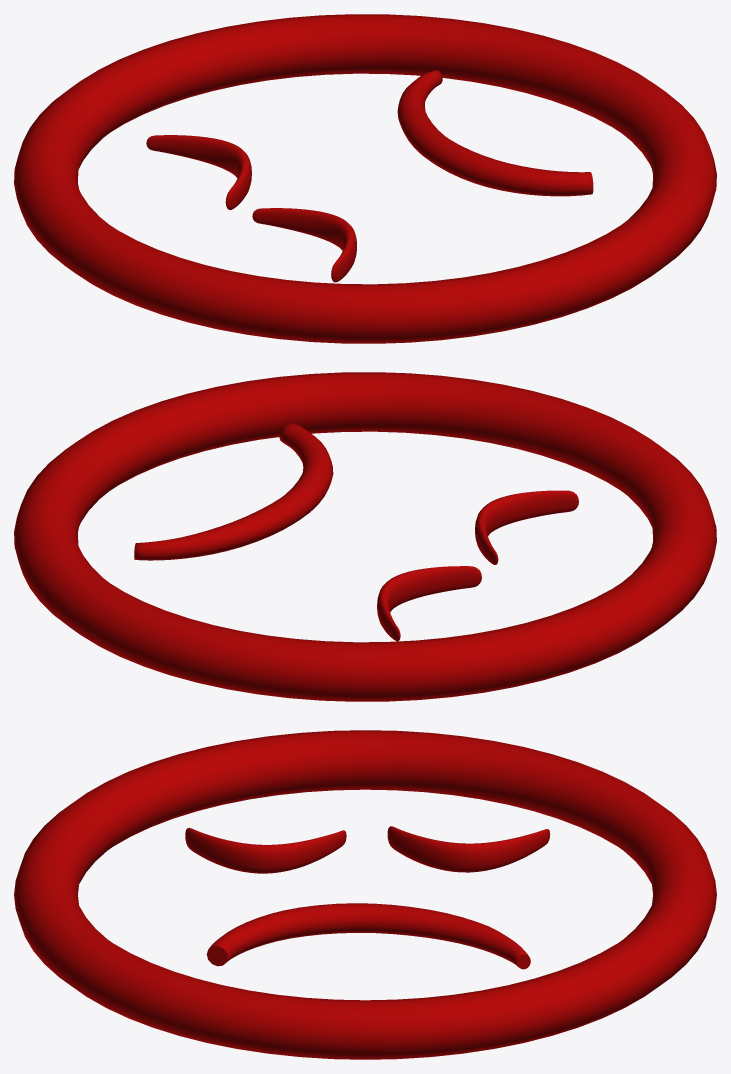
Rendered from Smiley_frown.fbx.
The picture shows the model from 3 angles, top to bottom: view 1: azimuth 30°, elevation 25°; view 2: azimuth 150°, elevation 25°; view 3: azimuth 270°, elevation 25°; orthographic projection.
Parts seen in each view (by area): view 1: Smiley_Frown; view 2: Smiley_Frown; view 3: Smiley_Frown.
Boxes of the visible parts, x1=… form: Smiley_Frown: x1=14, y1=14, x2=716, y2=343; Smiley_Frown: x1=14, y1=372, x2=716, y2=701; Smiley_Frown: x1=14, y1=730, x2=716, y2=1059.
Bounding box in the file's own units: 240 × 20 × 240.
